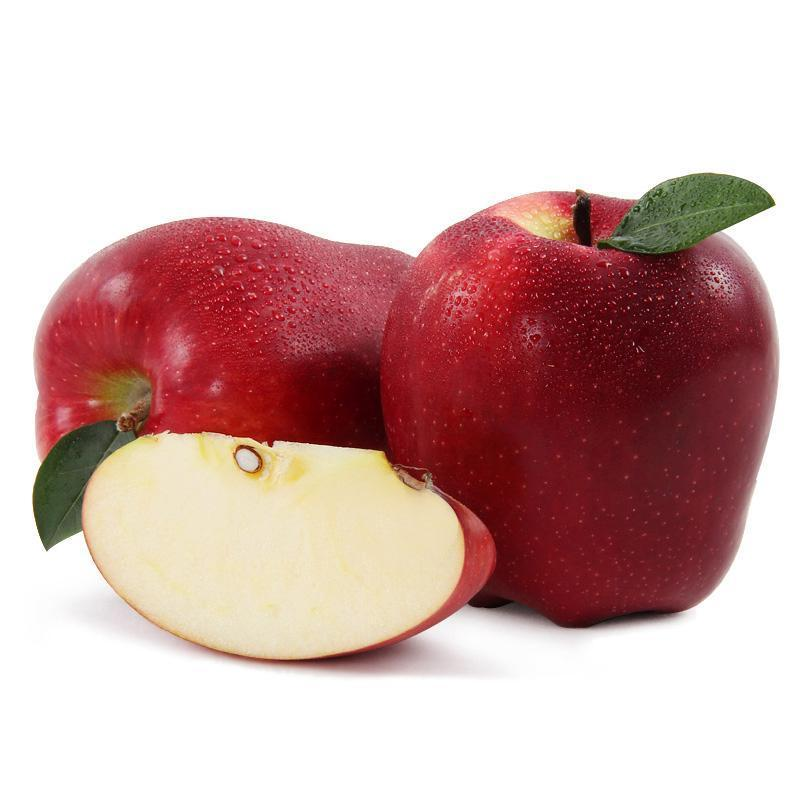apple: (387, 175, 783, 631), (35, 216, 411, 457)
